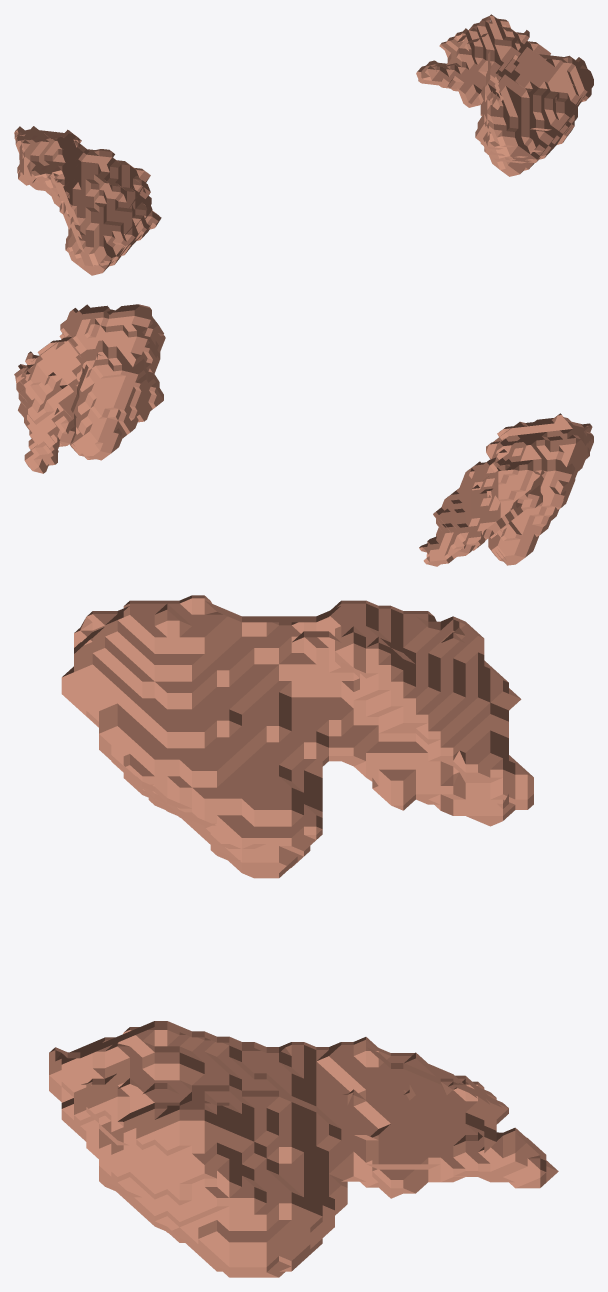
The model's file is region_0117_PON__posterior_octaval_nucleus_.glb.
3 views of the same model, one above another, from view 1: azimuth 30°, elevation 25°; view 2: azimuth 150°, elevation 25°; view 3: azimuth 270°, elevation 25° (orthographic). The views are drawn at different scales.
Visible parts, largest first — view 1: world; view 2: world; view 3: world.
Boxes of the visible parts, x1,y1,x2,y2 form: world: (14,14,593,275); world: (14,304,593,566); world: (49,595,558,1277).
Size of the model in its own units: 0.768 by 0.168 by 0.328.
